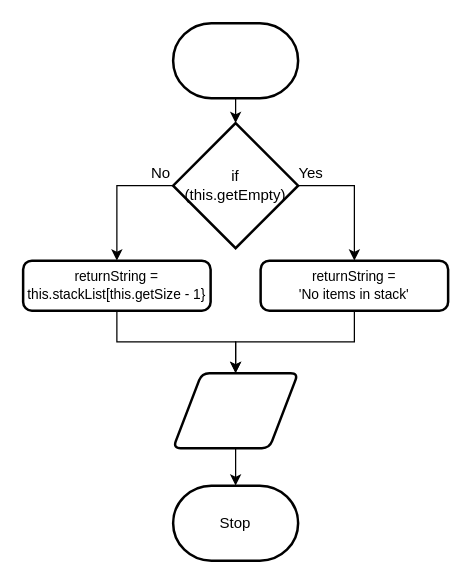
Image size: 470x583. Some labels were removed from this diagram. The centre of each missing label's shape, as x and y in pixels:
"return true" goes at point (235, 410).
"Start" goes at point (235, 60).
